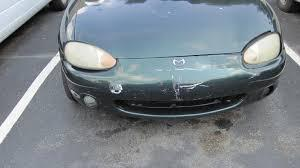front-bumper-dent: (116, 65, 233, 117)
